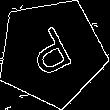P_SE: (24, 21, 80, 84)
